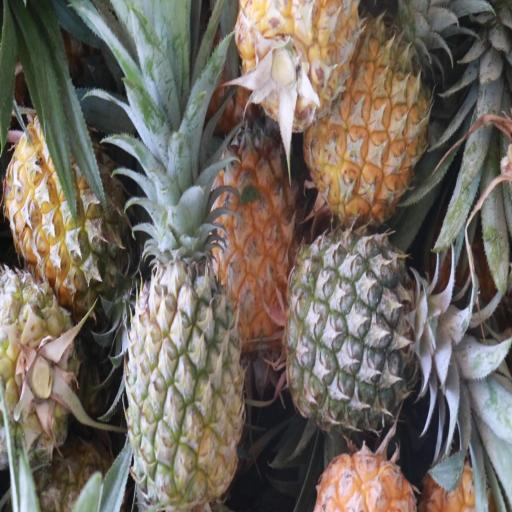------------------------------: (4, 112, 125, 300), (0, 279, 77, 467)
Pineapple - v8 v1: (301, 28, 432, 220), (211, 121, 299, 347)
